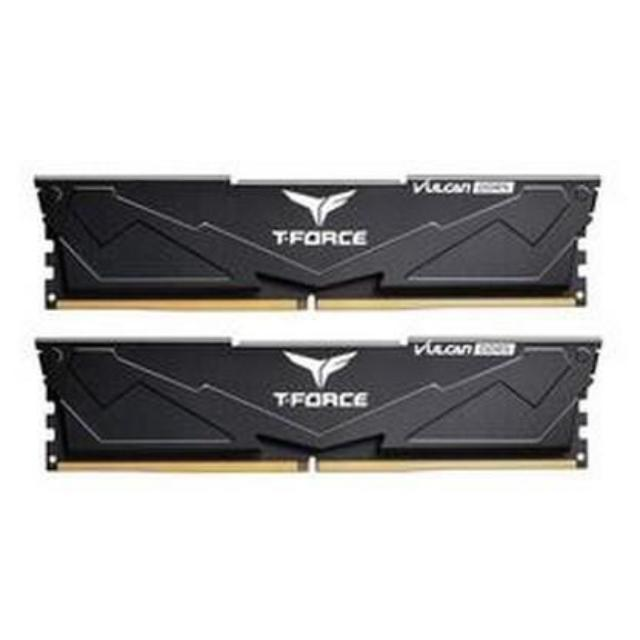RAM: (29, 171, 606, 311), (32, 337, 600, 474)
